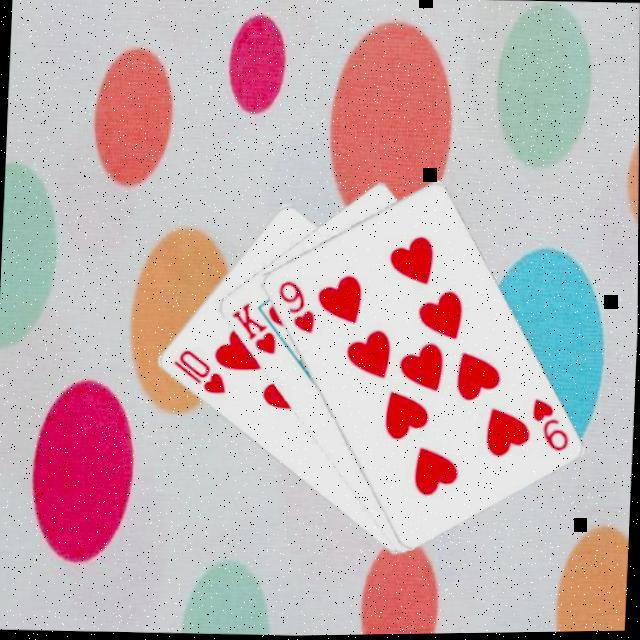10H: (167, 343, 229, 397)
9H: (271, 274, 317, 336), (525, 394, 571, 454)
KH: (224, 296, 278, 357)
